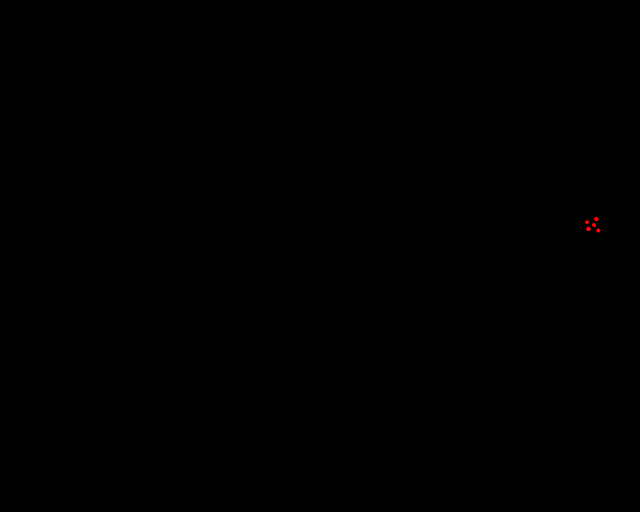Target: (596, 228, 601, 233), (594, 217, 599, 221), (586, 227, 591, 231), (585, 220, 589, 224), (592, 223, 596, 227)
